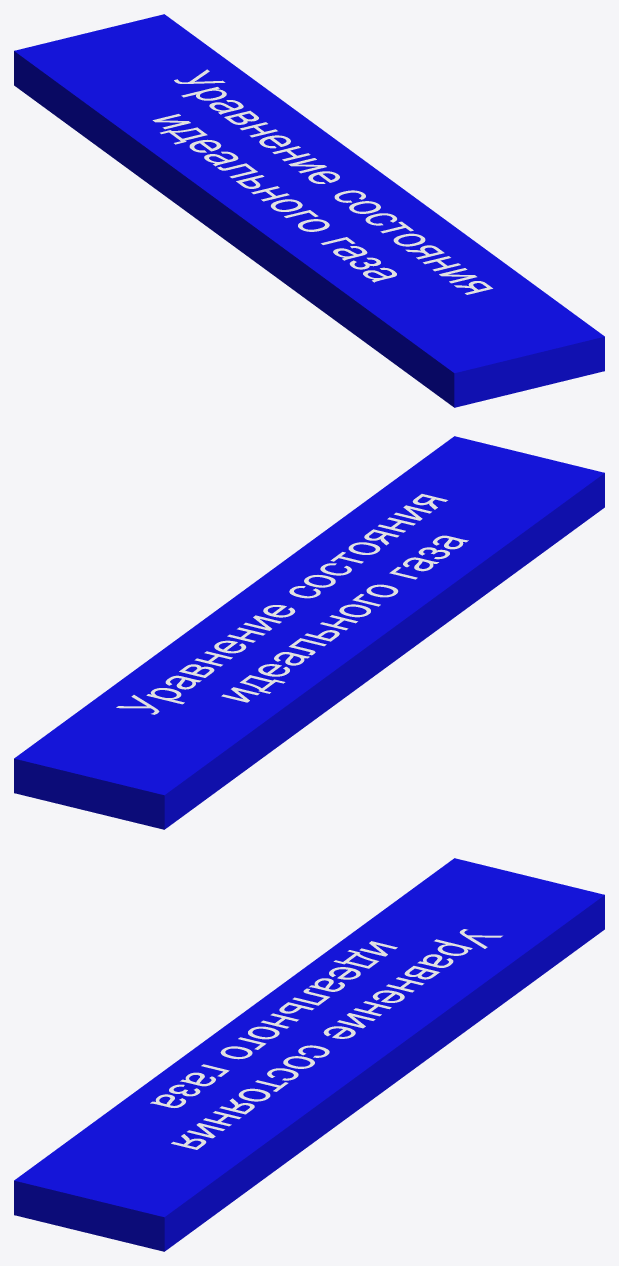
The model's file is yrnsost.FBX.
3 renders of one model, top to bottom at view 1: azimuth 30°, elevation 25°; view 2: azimuth 150°, elevation 25°; view 3: azimuth 330°, elevation 25°, orthographic.
Visible parts, largest first — view 1: Box001, Text001; view 2: Box001, Text001; view 3: Box001, Text001.
Boxes of the visible parts, bbox=[...] form: Box001: bbox=[14, 14, 604, 407]; Text001: bbox=[152, 69, 492, 294]; Box001: bbox=[14, 436, 604, 829]; Text001: bbox=[116, 494, 468, 714]; Box001: bbox=[14, 858, 604, 1251]; Text001: bbox=[150, 929, 502, 1149].
Size of the model in its own units: 28.91 by 7.23 by 147.
